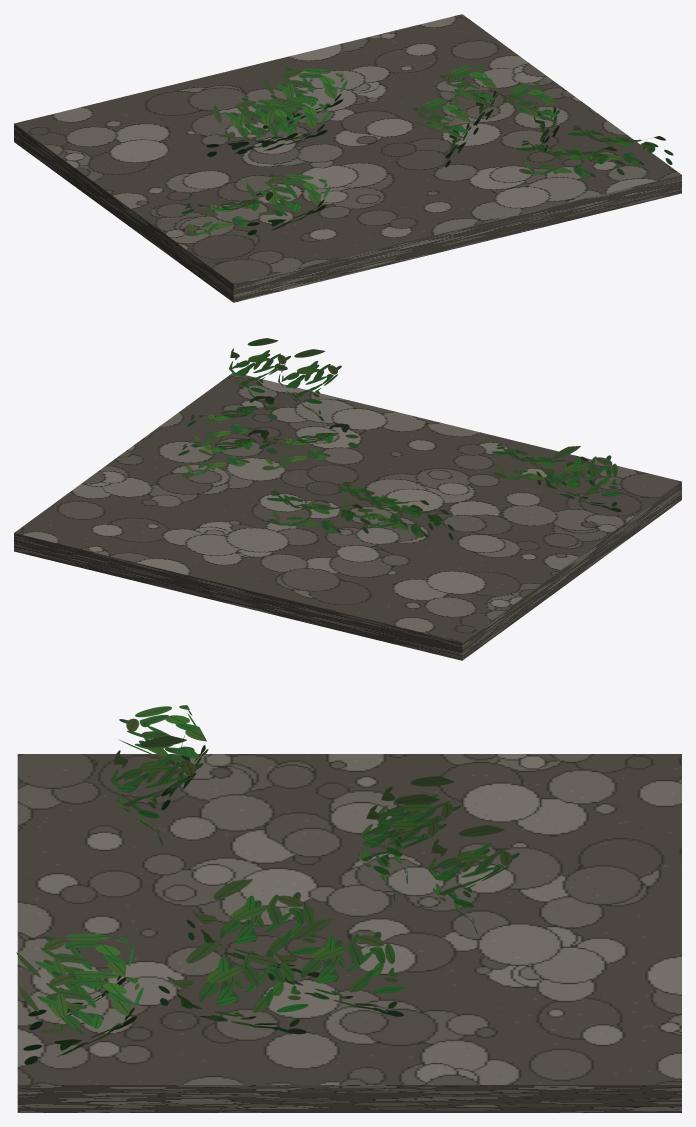
File: rung-tre-la-tre-rung.glb
The picture shows the model from 3 angles, top to bottom: view 1: azimuth 30°, elevation 25°; view 2: azimuth 150°, elevation 25°; view 3: azimuth 270°, elevation 25°; orthographic projection. The views are drawn at different scales.
Visible parts, largest first — view 1: rung-tre-la-tre-rung; view 2: rung-tre-la-tre-rung; view 3: rung-tre-la-tre-rung.
Boxes of the visible parts, <box> form: rung-tre-la-tre-rung: <box>14,14,681,302</box>; rung-tre-la-tre-rung: <box>14,338,681,660</box>; rung-tre-la-tre-rung: <box>16,705,681,1112</box>.
Bounding box in the file's own units: 1.52 × 0.2 × 1.3.
Materials: 2 (2 with a texture image).
